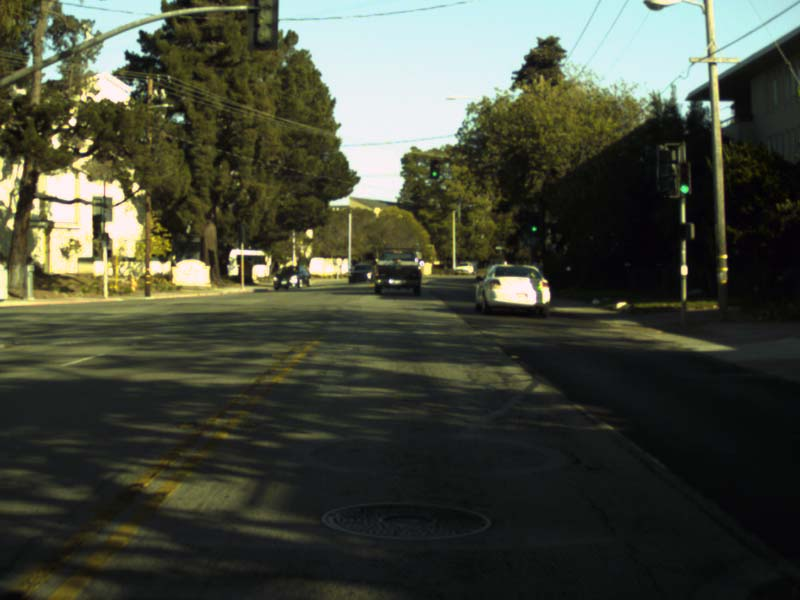Green: (678, 163, 690, 195), (529, 214, 539, 234), (430, 157, 438, 178)
